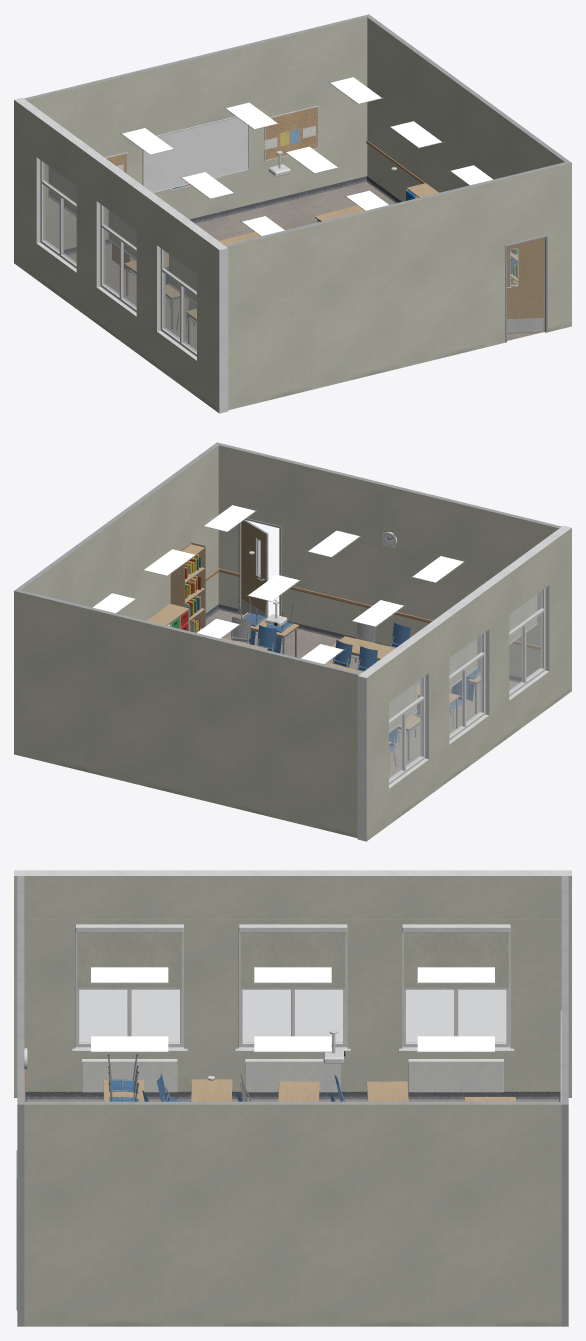
The model's file is tevy-classroom-unpacked.glb.
3 views of the same model, one above another, from view 1: azimuth 30°, elevation 25°; view 2: azimuth 150°, elevation 25°; view 3: azimuth 270°, elevation 25° (orthographic). The views are drawn at different scales.
Parts seen in each view (by area): view 1: shell, wall_front, ceiling, door_geo, desks, shelves; view 2: shell, wall_front, ceiling, chairs, shelves, door_geo, desks; view 3: shell, ceiling, wall_front, desks, chairs.
Part boxes in pixels (bbox=[...]): shell: bbox=[14, 14, 568, 413]; wall_front: bbox=[225, 161, 571, 410]; ceiling: bbox=[120, 77, 492, 236]; door_geo: bbox=[507, 238, 544, 333]; desks: bbox=[124, 205, 365, 343]; shelves: bbox=[406, 183, 517, 284]; shell: bbox=[14, 444, 571, 841]; wall_front: bbox=[214, 442, 561, 682]; ceiling: bbox=[93, 505, 465, 664]; chairs: bbox=[231, 596, 480, 765]; shelves: bbox=[147, 542, 205, 632]; door_geo: bbox=[241, 519, 268, 616]; desks: bbox=[220, 612, 480, 773]; shell: bbox=[14, 870, 571, 1326]; ceiling: bbox=[89, 967, 496, 1080]; wall_front: bbox=[16, 876, 27, 1326]; desks: bbox=[103, 1079, 408, 1101]; chairs: bbox=[108, 1054, 345, 1101].
Bounding box in the file's own units: 8.15 × 3.6 × 8.2.
5 materials, 3 textured.
